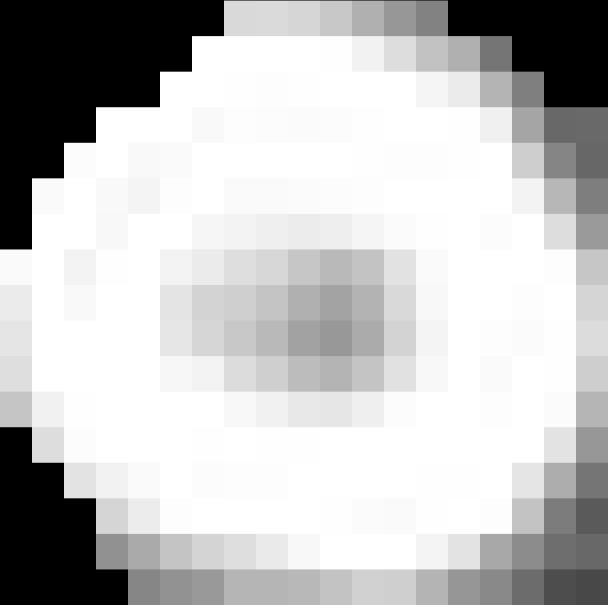tumor_good_chance: (0, 1, 608, 605)
